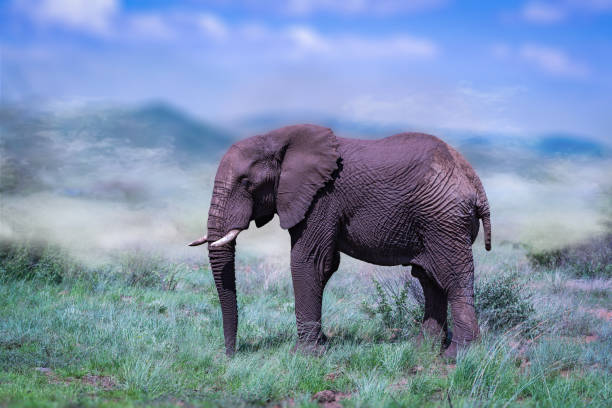africanelephant: (169, 124, 329, 288)
